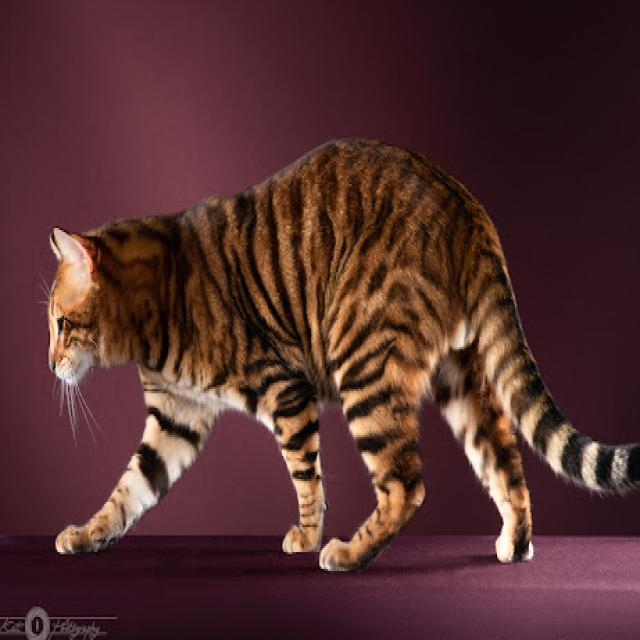Toyger: (40, 130, 640, 579)
